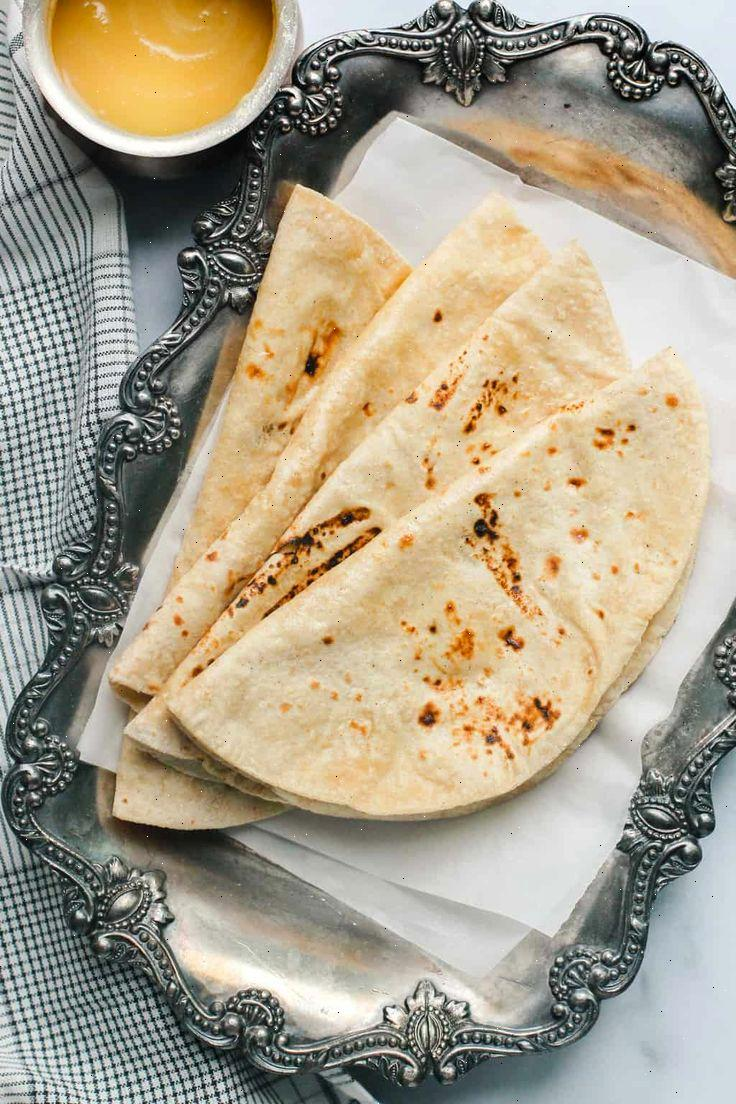roti phulka: (106, 186, 715, 835)
